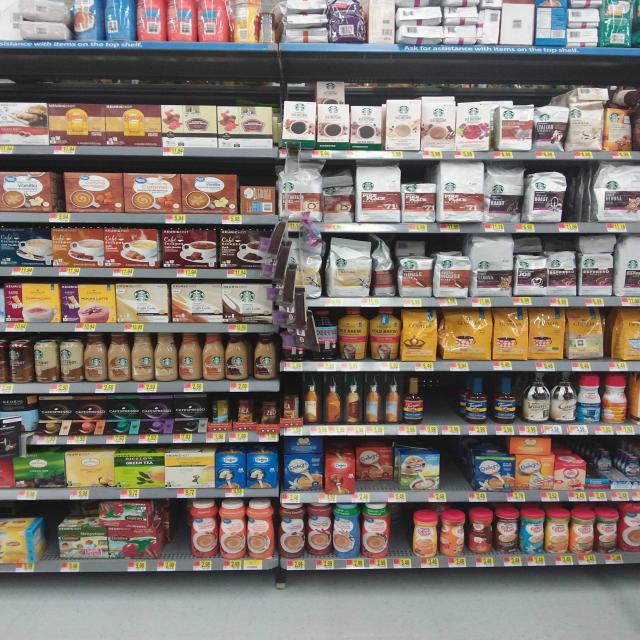unorganised: (137, 1, 227, 42), (1, 170, 56, 214), (485, 165, 526, 224), (565, 307, 606, 362), (357, 441, 395, 490), (372, 235, 400, 297), (321, 173, 355, 224), (95, 499, 153, 527), (104, 1, 137, 41), (440, 508, 466, 557), (507, 435, 556, 458), (240, 184, 275, 216), (326, 378, 345, 426), (317, 81, 346, 105), (599, 447, 613, 478)
